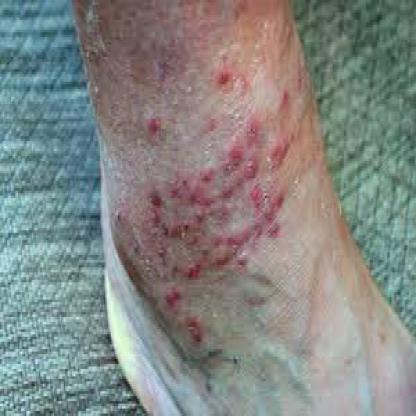Fire ant: (118, 60, 298, 344)
